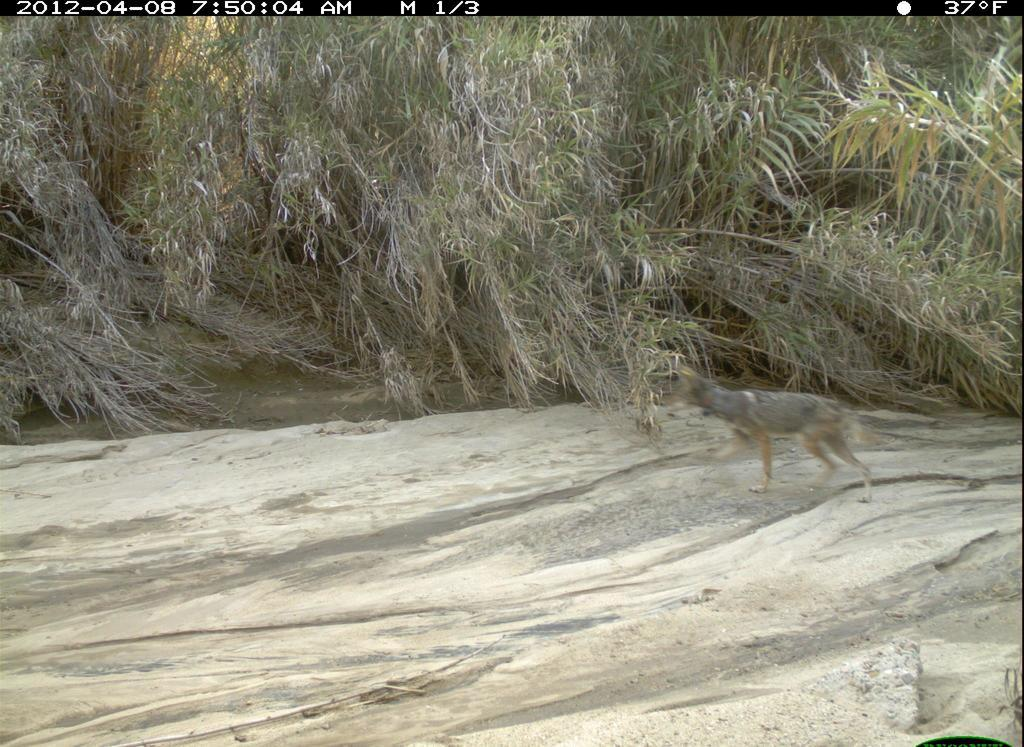coyote: (658, 362, 894, 505)
